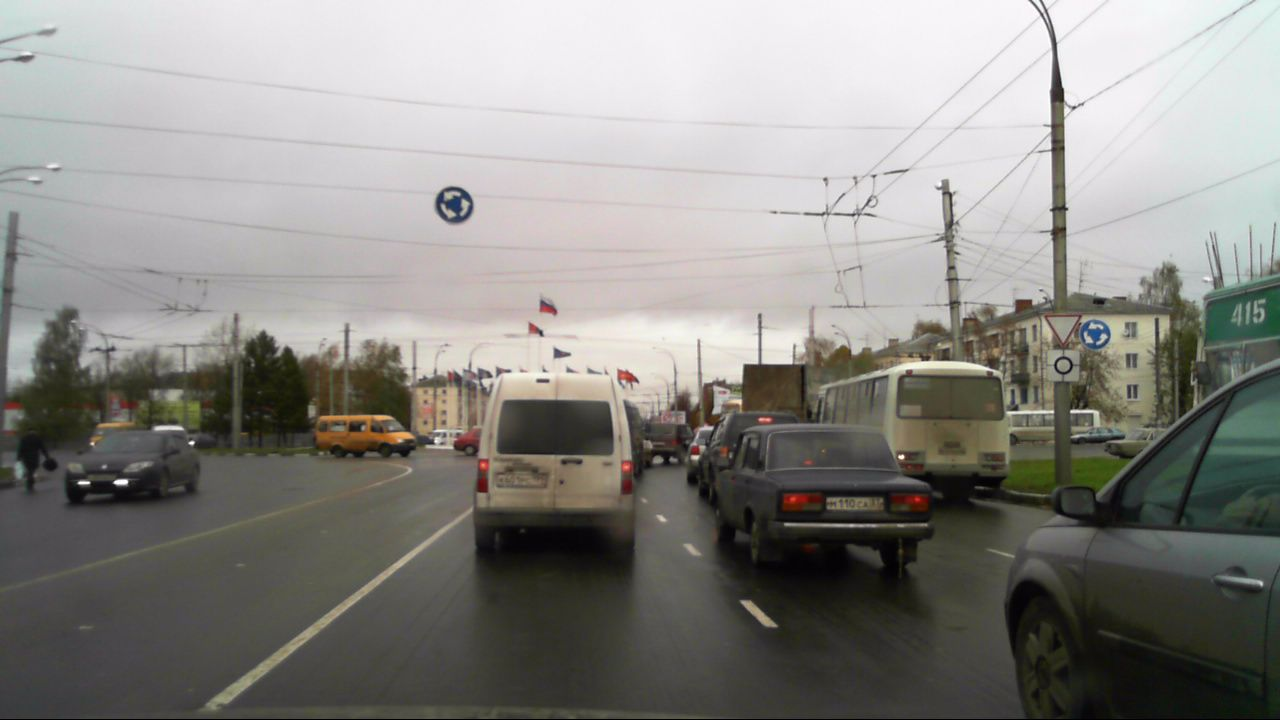Round-About: (1080, 319, 1111, 351)
